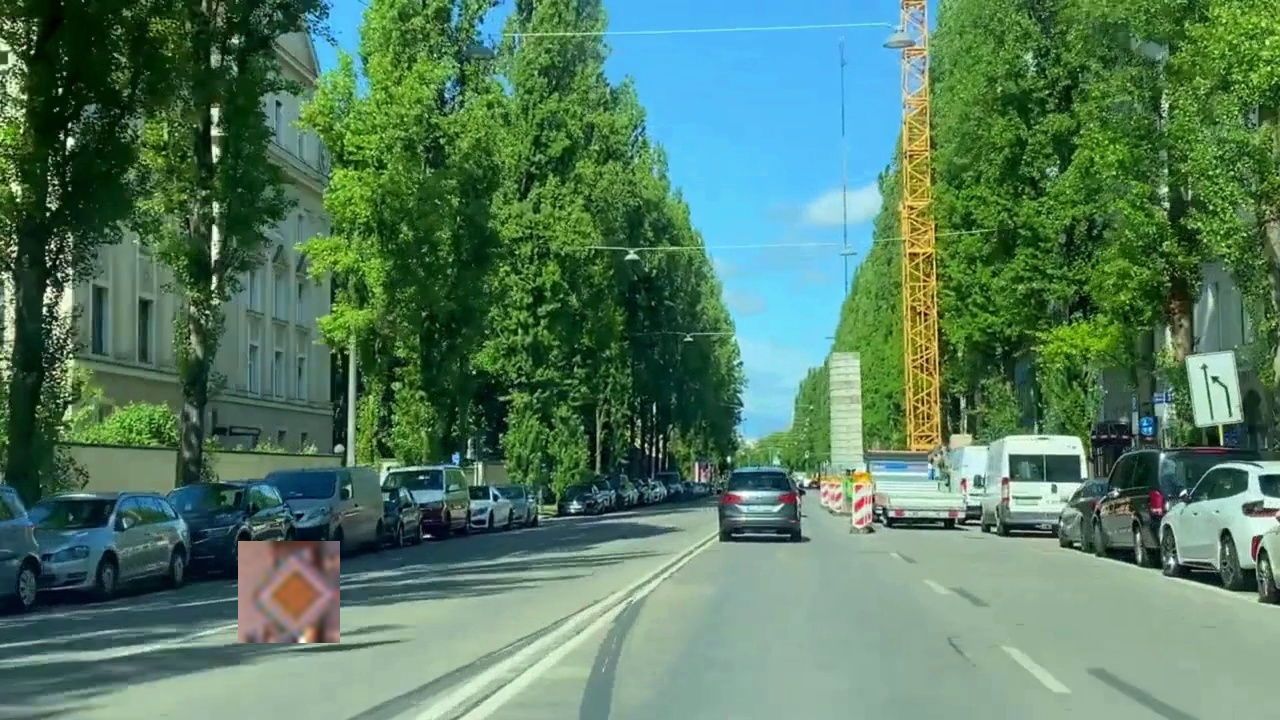Priority road: (238, 541, 340, 643)
